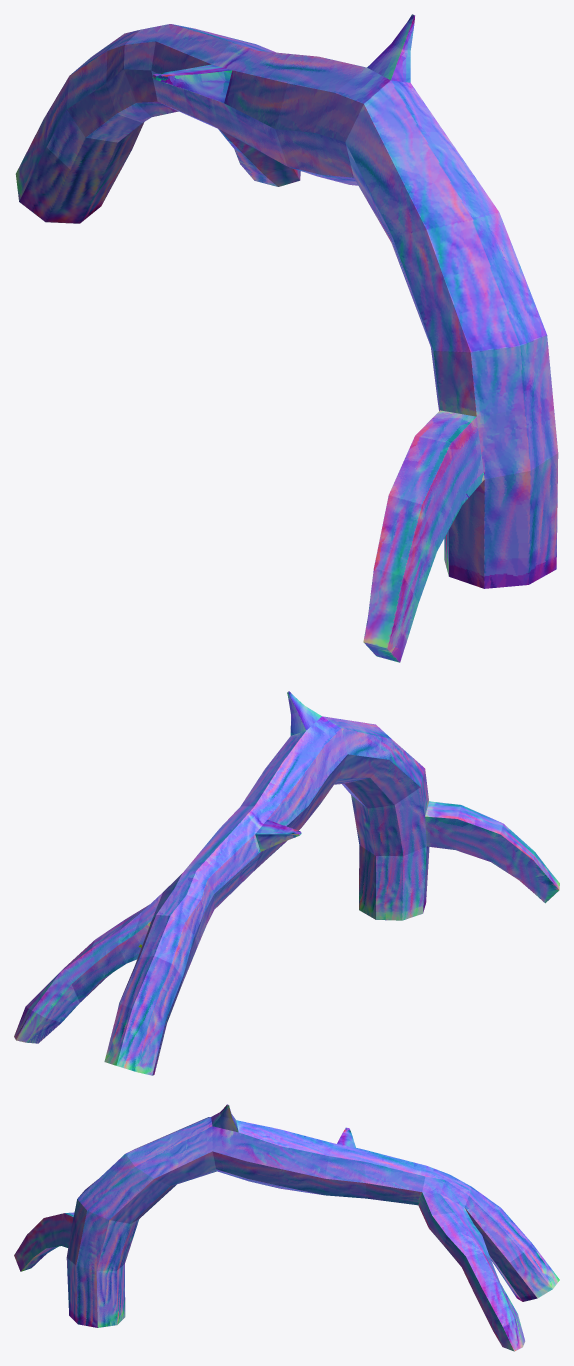
3 views of the same model, one above another, from view 1: azimuth 30°, elevation 25°; view 2: azimuth 150°, elevation 25°; view 3: azimuth 270°, elevation 25° (orthographic). The views are drawn at different scales.
Visible parts, largest first — view 1: LowPoly_Cylinder; view 2: LowPoly_Cylinder; view 3: LowPoly_Cylinder.
Boxes of the visible parts, x1,y1,x2,y2 form: LowPoly_Cylinder: (15,14,558,662); LowPoly_Cylinder: (14,691,559,1075); LowPoly_Cylinder: (14,1104,559,1351).
Bounding box in the file's own units: 4.47 × 4.49 × 9.95.
